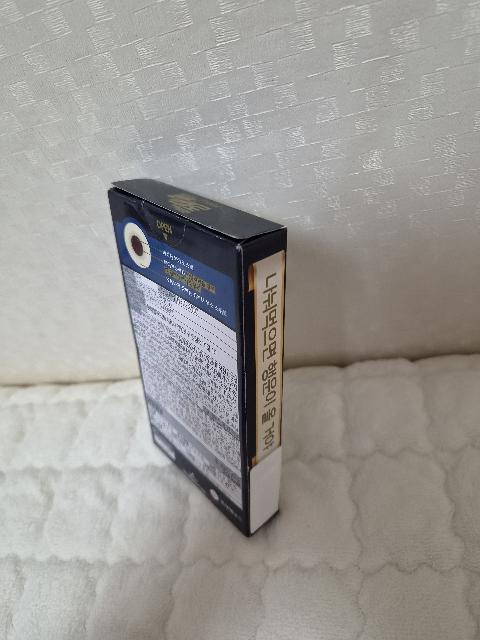pepero: (108, 179, 288, 538)
